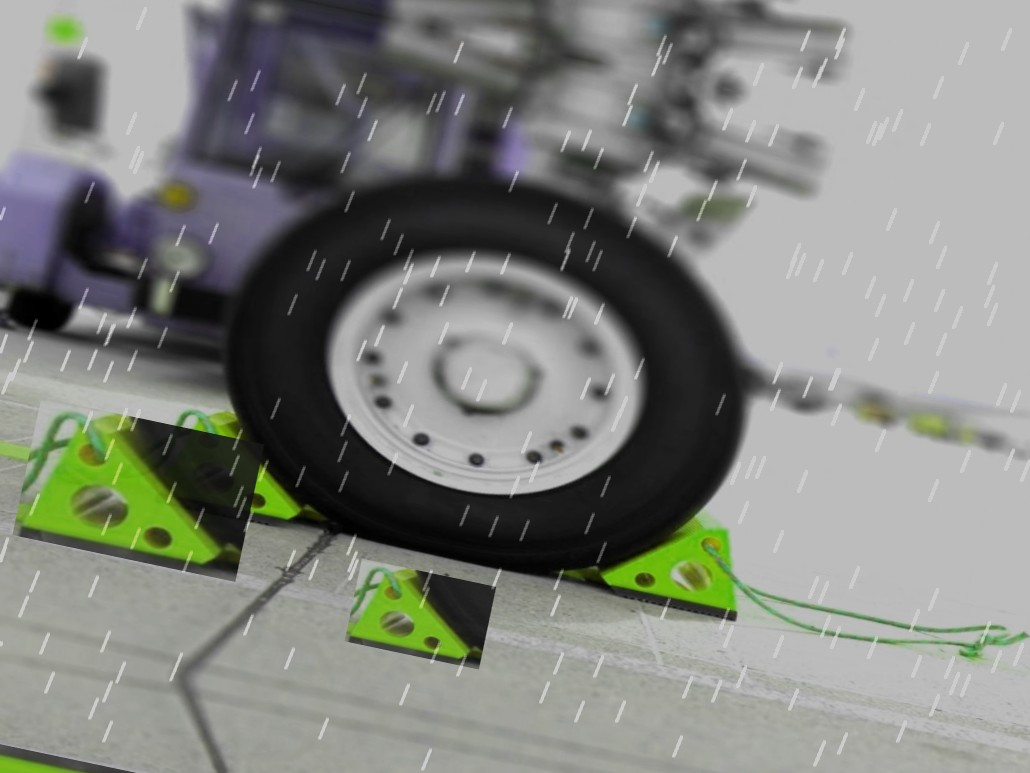chock: (12, 397, 264, 582), (150, 399, 331, 532), (587, 487, 760, 621), (345, 559, 496, 670)
wheel: (200, 135, 779, 610), (4, 285, 76, 335)
